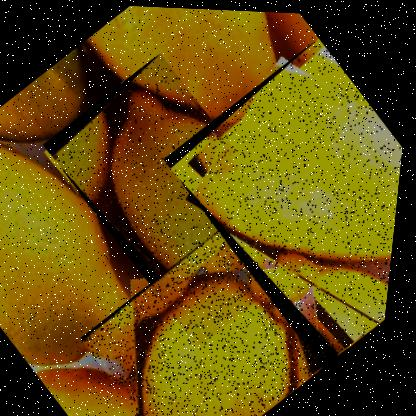lemon: (29, 47, 336, 349), (149, 29, 413, 366), (79, 206, 361, 415)
